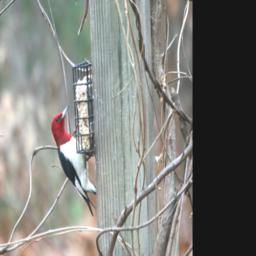Woodpecker: (47, 100, 101, 221)
